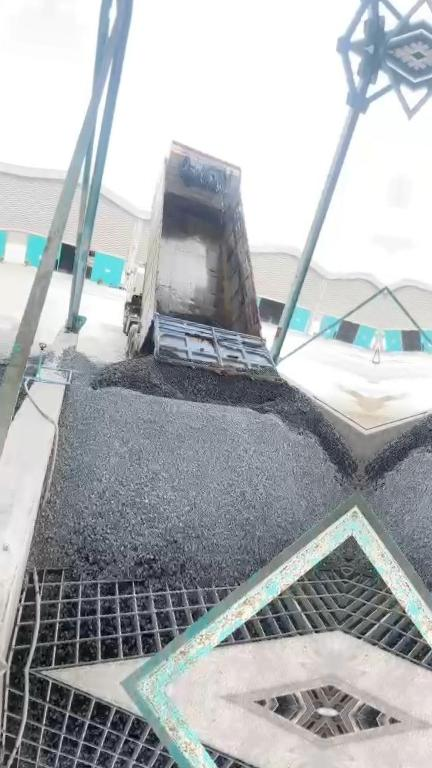gravel: (30, 374, 357, 586), (58, 349, 356, 473), (167, 244, 230, 328), (320, 539, 351, 567)
sand: (348, 391, 370, 428)
